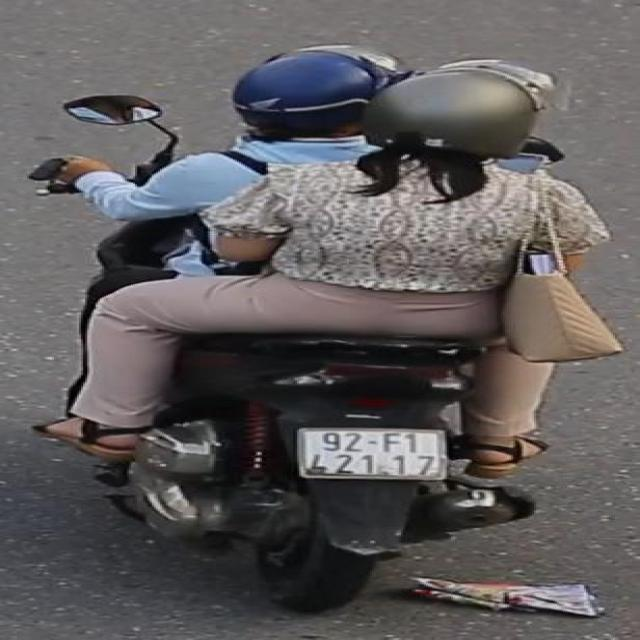LP: (287, 420, 453, 485)
helmet: (328, 57, 578, 196), (222, 40, 414, 156)
